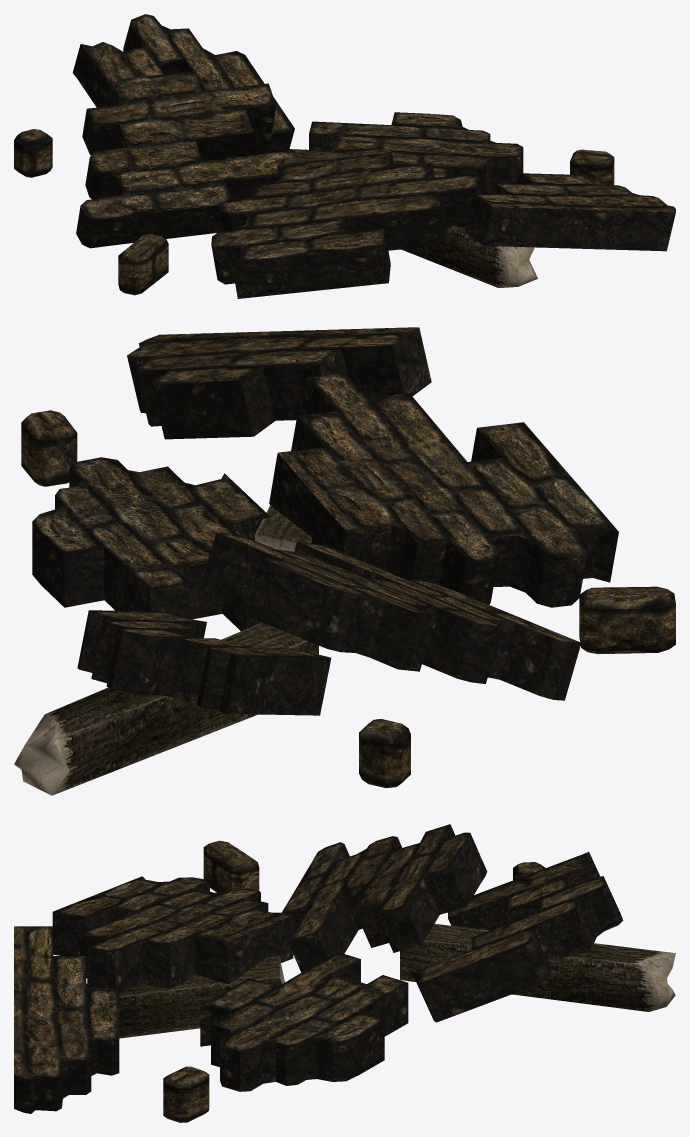
The model's file is broken_cell_wall.dae.
The picture shows the model from 3 angles, top to bottom: view 1: azimuth 30°, elevation 25°; view 2: azimuth 150°, elevation 25°; view 3: azimuth 270°, elevation 25°; orthographic projection. The views are drawn at different scales.
Parts seen in each view (by area): view 1: polySurface636, polySurface637, polySurface633; view 2: polySurface636, polySurface637, polySurface633; view 3: polySurface636, polySurface637, polySurface633.
Part boxes in pixels (x1,y1,x2,y2): polySurface636: (14, 14, 675, 295); polySurface637: (72, 20, 675, 298); polySurface633: (401, 226, 537, 287); polySurface636: (21, 327, 675, 788); polySurface637: (32, 327, 618, 715); polySurface633: (14, 505, 318, 795); polySurface636: (14, 824, 605, 1122); polySurface637: (14, 824, 623, 1113); polySurface633: (86, 923, 675, 1038).
Size of the model in its own units: 3.29 by 0.7032 by 3.72.
